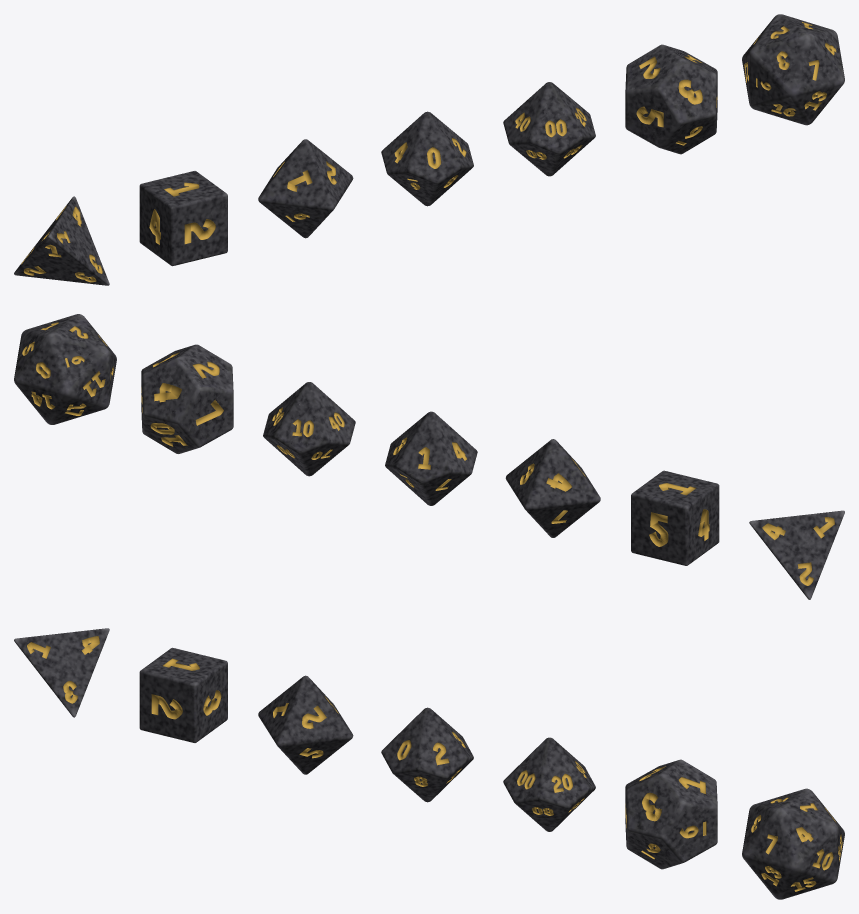
Rendered from forged-iron.glb.
3 views of the same model, one above another, from view 1: azimuth 30°, elevation 25°; view 2: azimuth 150°, elevation 25°; view 3: azimuth 330°, elevation 25° (orthographic).
Parts seen in each view (by area): view 1: d20, d12, d6, d100, d10, d8, d4; view 2: d20, d12, d6, d100, d10, d8, d4; view 3: d20, d12, d6, d8, d10, d100, d4.
Part boxes in pixels (left/top/right/bottom): d20: left=742, top=14, right=844, bottom=125; d12: left=625, top=44, right=717, bottom=154; d6: left=139, top=171, right=227, bottom=266; d100: left=503, top=82, right=595, bottom=176; d10: left=381, top=111, right=473, bottom=206; d8: left=258, top=139, right=353, bottom=238; d4: left=14, top=196, right=109, bottom=285; d20: left=14, top=314, right=116, bottom=424; d12: left=141, top=344, right=233, bottom=453; d6: left=631, top=470, right=719, bottom=565; d100: left=263, top=382, right=355, bottom=476; d10: left=385, top=411, right=477, bottom=505; d8: left=505, top=439, right=600, bottom=537; d4: left=749, top=510, right=844, bottom=599; d20: left=742, top=788, right=844, bottom=899; d12: left=625, top=759, right=717, bottom=869; d6: left=139, top=647, right=227, bottom=742; d8: left=258, top=675, right=353, bottom=774; d10: left=381, top=707, right=473, bottom=802; d100: left=503, top=737, right=595, bottom=831; d4: left=14, top=628, right=109, bottom=717.
Bounding box in the file's own units: 21.14 × 2.47 × 2.47.
Materials: 14 (7 with a texture image).
